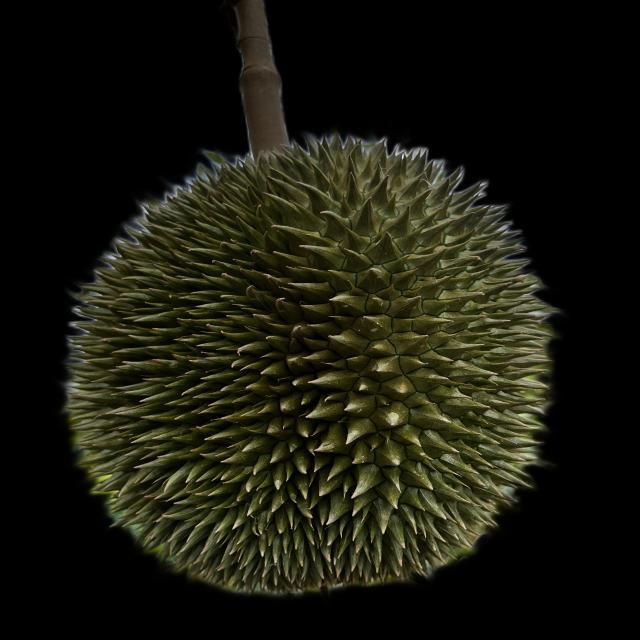immature: (66, 140, 554, 588)
